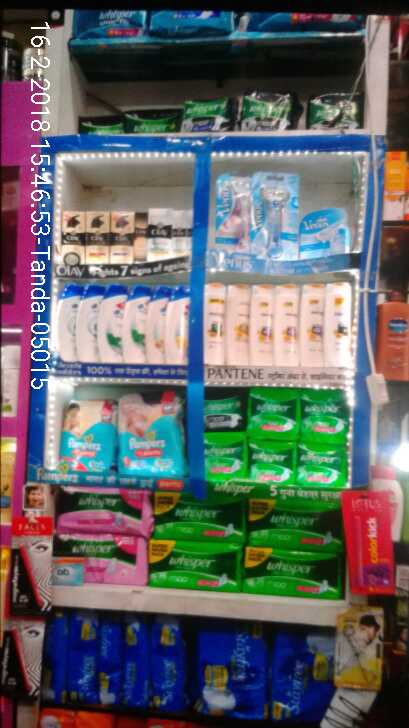venus: (254, 173, 300, 256), (216, 173, 254, 255), (300, 208, 349, 256)
